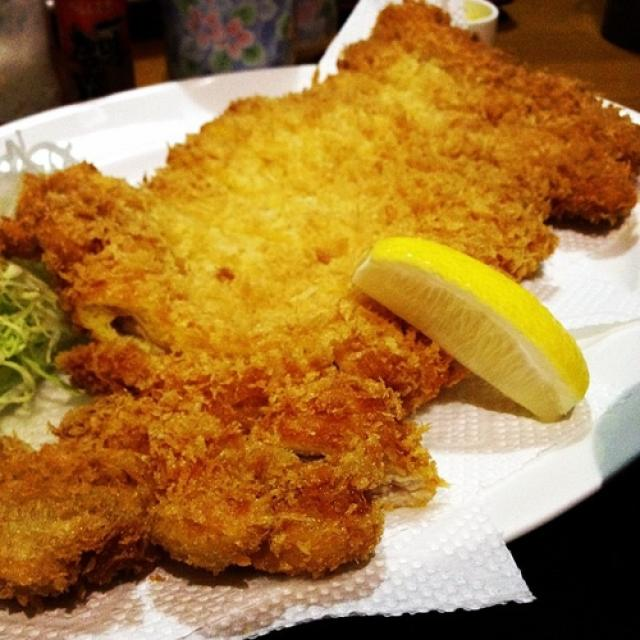鸡肉料理 含炸鸡: (11, 13, 630, 604)
